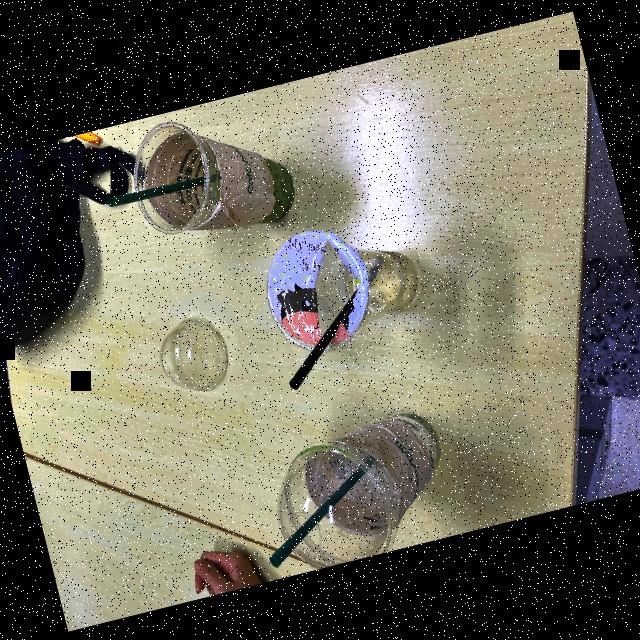plastic_cup: (269, 401, 471, 566), (117, 89, 313, 247), (255, 217, 422, 354)
plastic_cup_lid: (252, 424, 410, 576), (142, 298, 242, 409)
straw: (285, 251, 385, 389), (267, 455, 378, 567), (105, 170, 221, 207)
